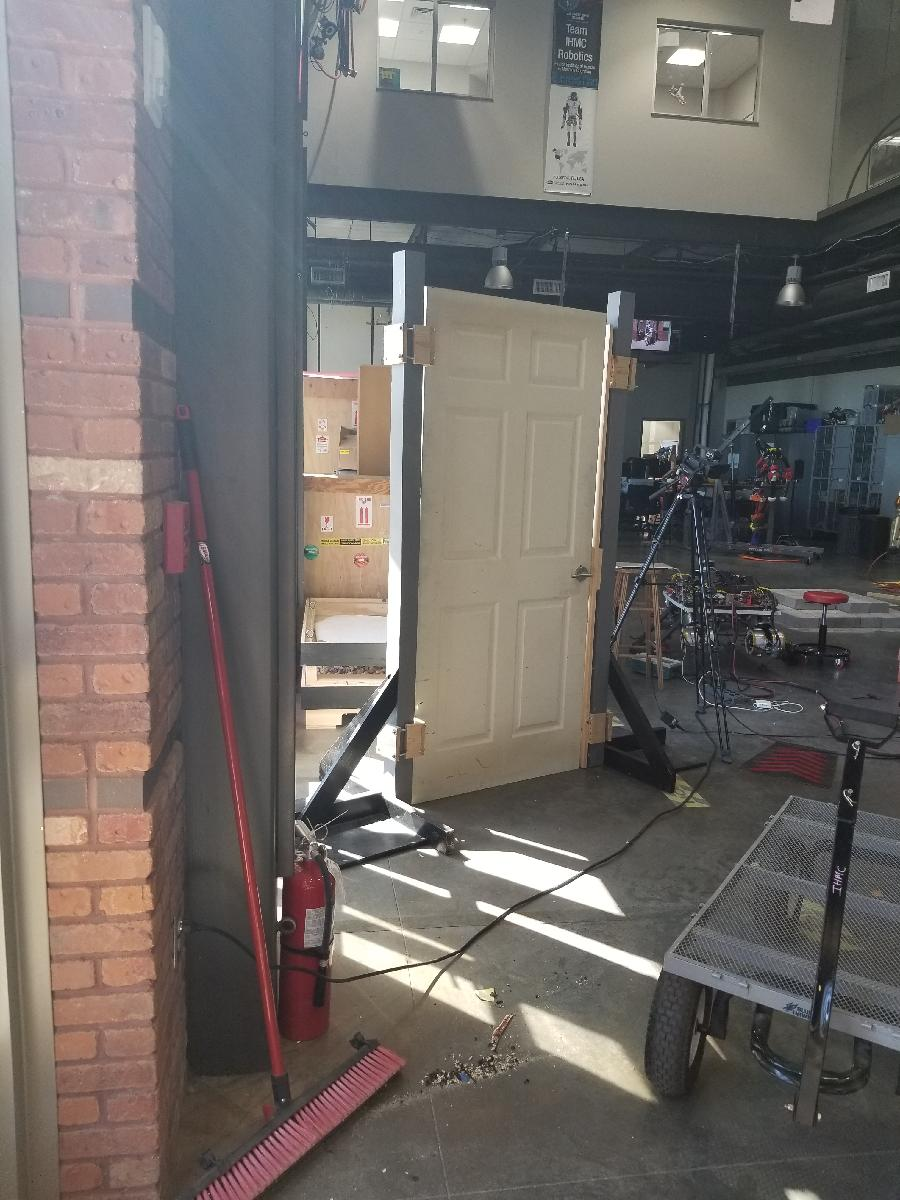door: (409, 283, 611, 805)
doorHandle: (567, 561, 599, 589)
